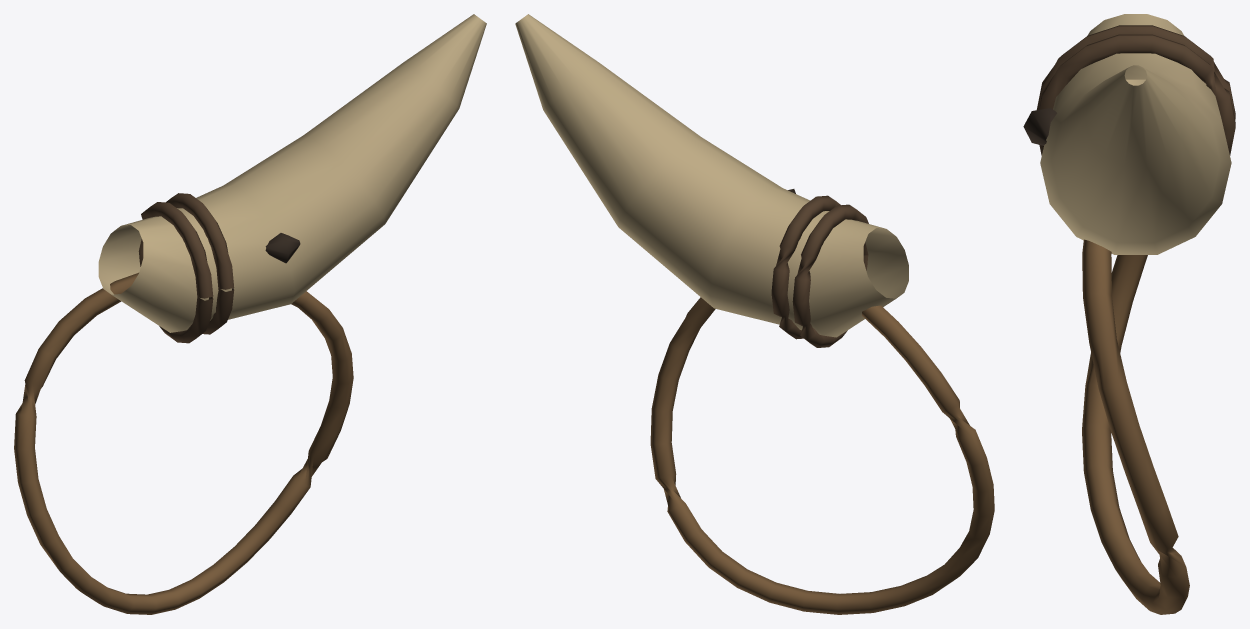
The model's file is tusk_whistle.glb.
3 renders of one model, left to right at view 1: azimuth 30°, elevation 25°; view 2: azimuth 150°, elevation 25°; view 3: azimuth 270°, elevation 25°, orthographic. The views are drawn at different scales.
Visible parts, largest first — view 1: tusk_whistle; view 2: tusk_whistle; view 3: tusk_whistle.
Part boxes in pixels (x1,y1,x2,y2): tusk_whistle: (14,14,486,614); tusk_whistle: (515,14,994,614); tusk_whistle: (1023,14,1235,614).
Size of the model in its own units: 0.1336 by 0.1414 by 0.0377.
